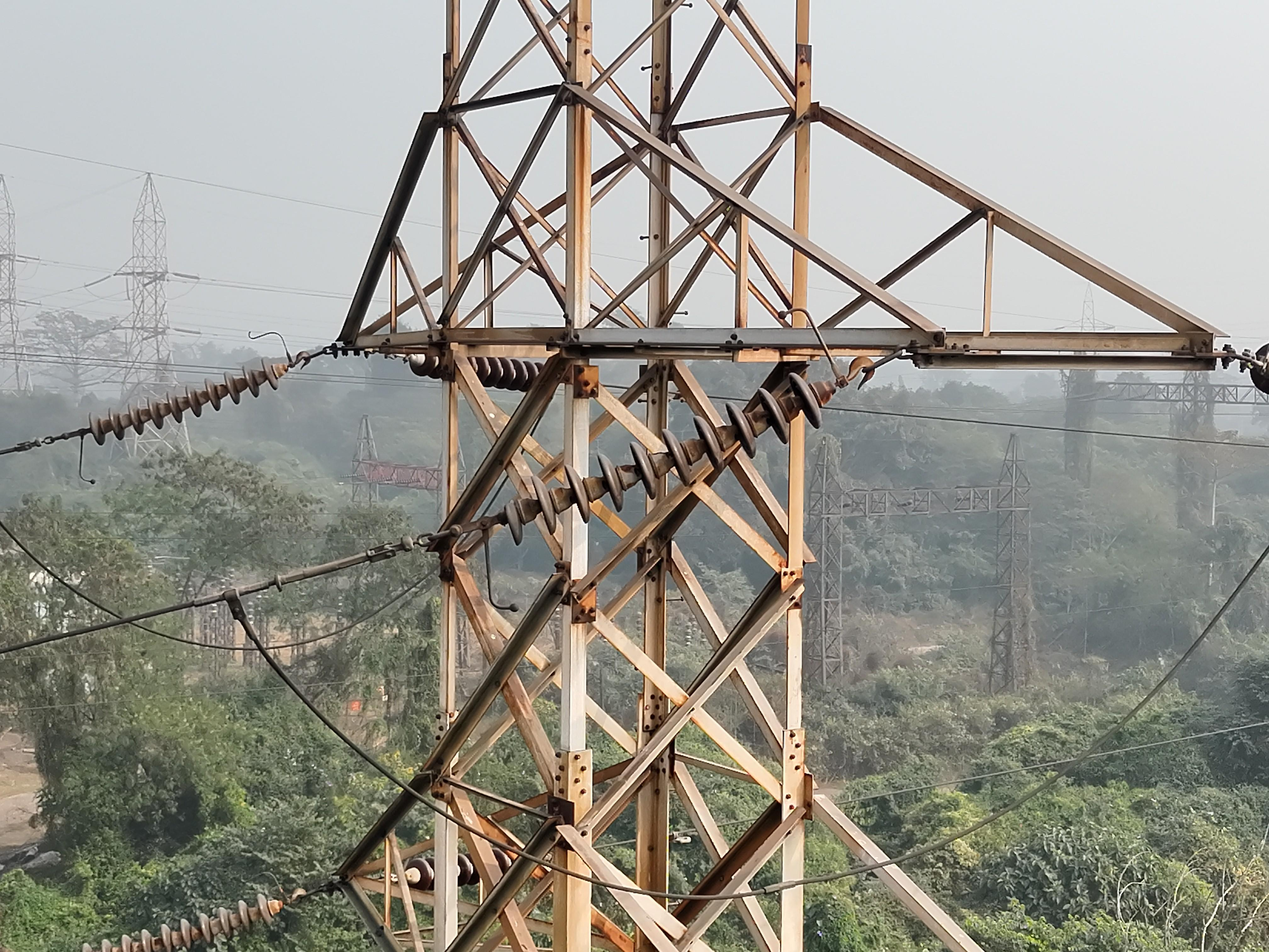broken_insulator: (493, 492, 535, 552)
